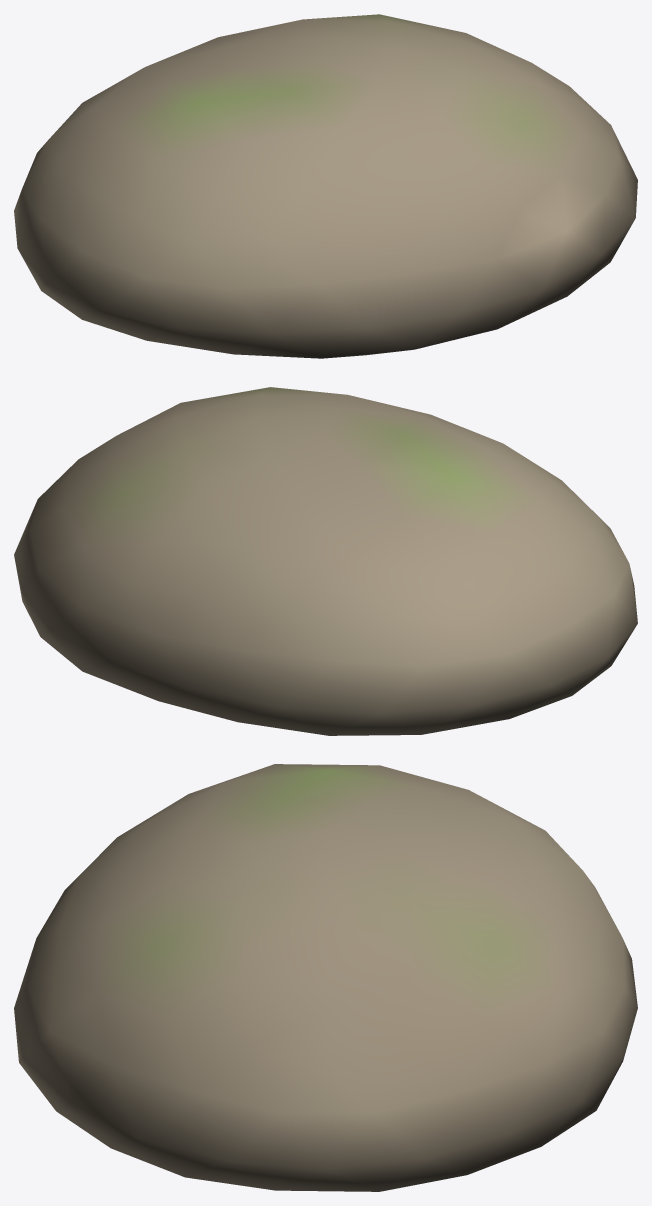
Rendered from RiverStone_B.fbx.
3 views of the same model, one above another, from view 1: azimuth 30°, elevation 25°; view 2: azimuth 150°, elevation 25°; view 3: azimuth 270°, elevation 25° (orthographic). The views are drawn at different scales.
Visible parts, largest first — view 1: RiverStone_B; view 2: RiverStone_B; view 3: RiverStone_B.
Part boxes in pixels (box(x1,y1,x2,y2)): RiverStone_B: box(14, 14, 637, 358); RiverStone_B: box(14, 387, 637, 735); RiverStone_B: box(14, 764, 637, 1191).
Bounding box in the file's own units: 2.65 × 0.9107 × 2.18.
